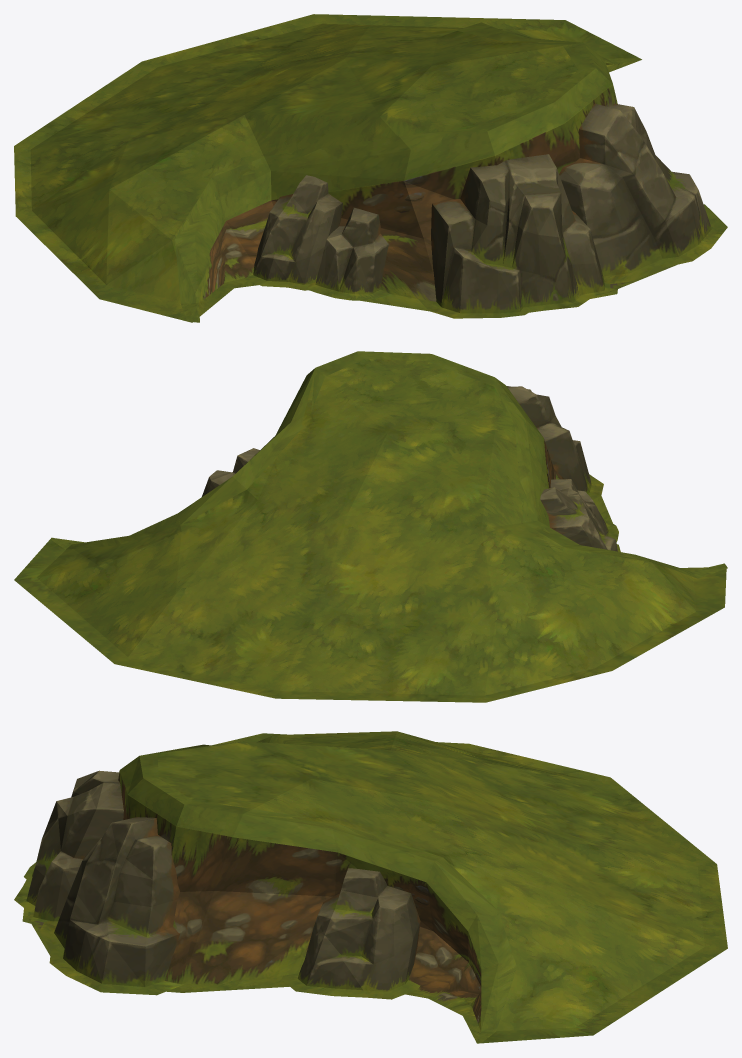
Rendered from berm_promontory_1.fbx.
3 views of the same model, one above another, from view 1: azimuth 30°, elevation 25°; view 2: azimuth 150°, elevation 25°; view 3: azimuth 270°, elevation 25° (orthographic). The views are drawn at different scales.
Parts seen in each view (by area): view 1: obj3.005; view 2: obj3.005; view 3: obj3.005.
Boxes of the visible parts, bbox=[...] form: obj3.005: bbox=[14, 14, 727, 322]; obj3.005: bbox=[14, 351, 727, 702]; obj3.005: bbox=[14, 731, 727, 1043].
Size of the model in its own units: 17.64 by 3.88 by 17.15.
